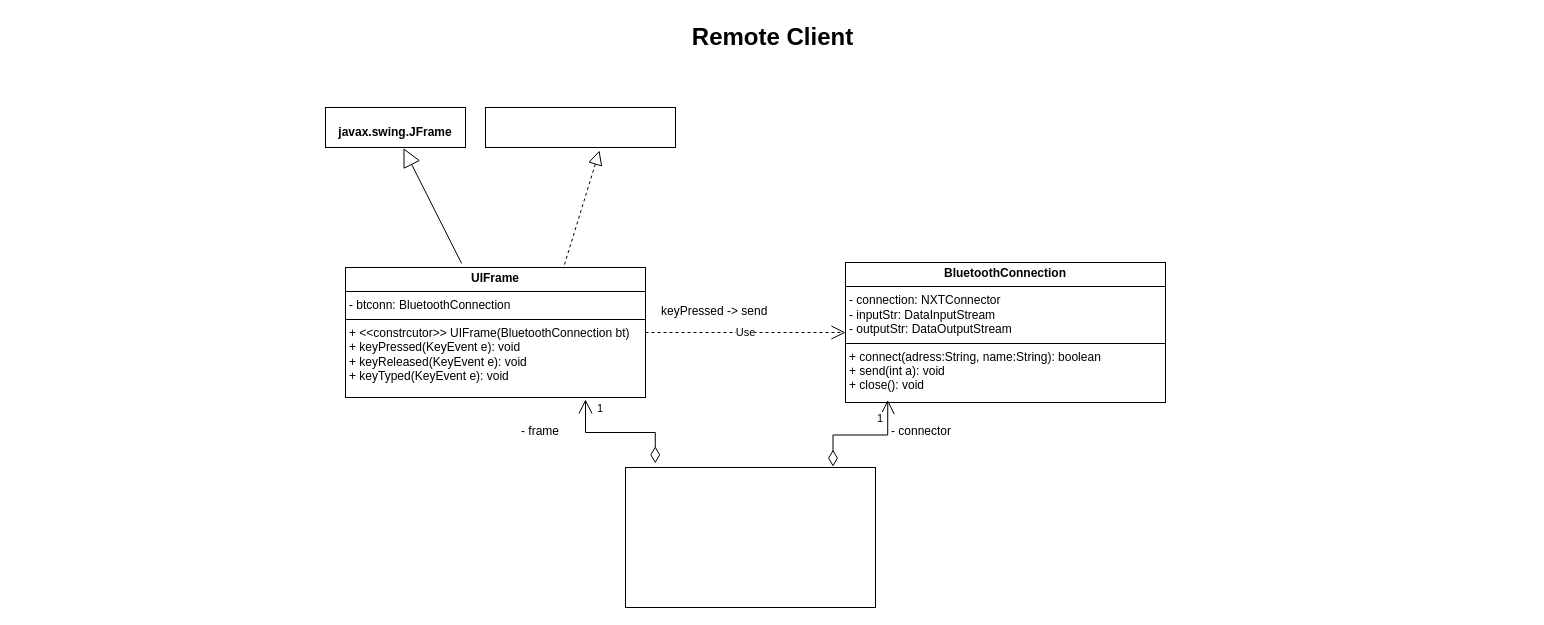
The diagram is 1544 pixels wide and 625 high, and some of its shapes have lost their labels. Here are the shapes that lost their labels. From the top down, the centre of each, then its label:
(580,127): <<Interface>> java.awt.event.KeyListener
(750,537): Main - setup(): void + main(): void
